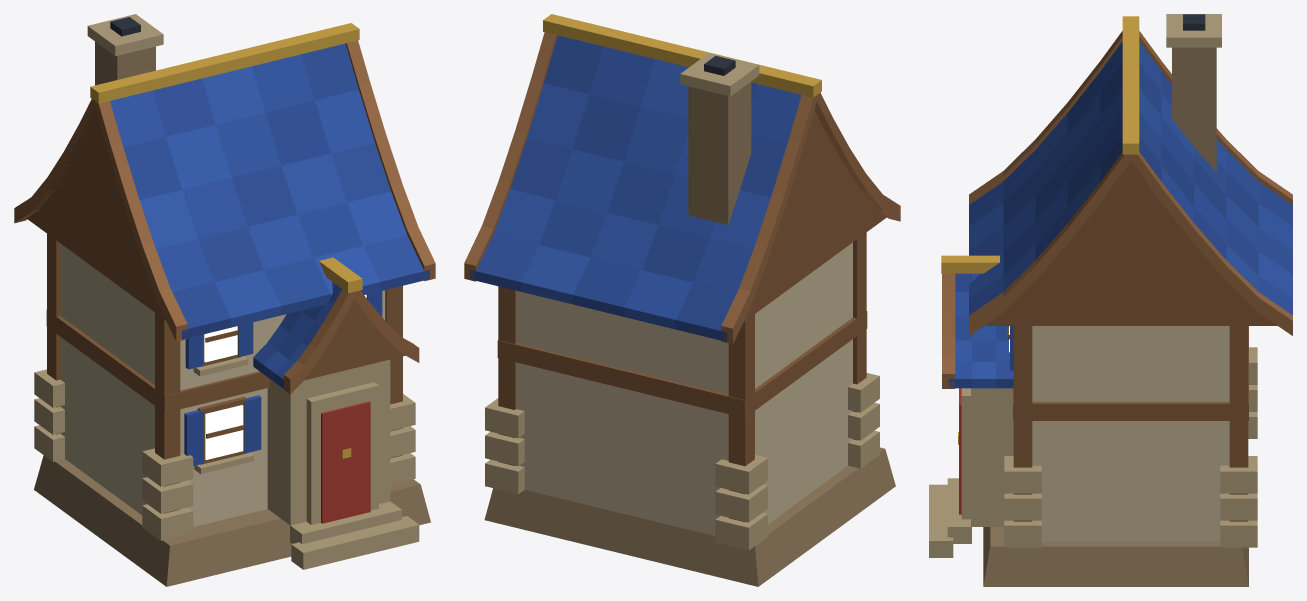
Rendered from house_t2.glb.
The picture shows the model from 3 angles, left to right: view 1: azimuth 30°, elevation 25°; view 2: azimuth 150°, elevation 25°; view 3: azimuth 270°, elevation 25°; orthographic projection. The views are drawn at different scales.
Parts seen in each view (by area): view 1: body, glow; view 2: body; view 3: body.
Part boxes in pixels (x1=…): body: x1=14, y1=14, x2=435, y2=586; glow: x1=204, y1=294, x2=366, y2=459; body: x1=464, y1=14, x2=900, y2=586; body: x1=929, y1=14, x2=1292, y2=586.
Bounding box in the file's own units: 1.64 × 2.79 × 1.95.
